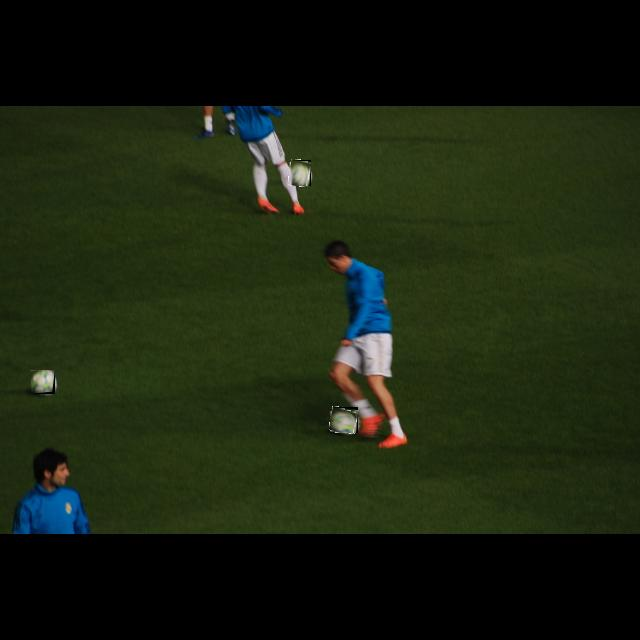Football: (330, 407, 358, 433), (31, 370, 55, 394), (289, 160, 311, 186)
